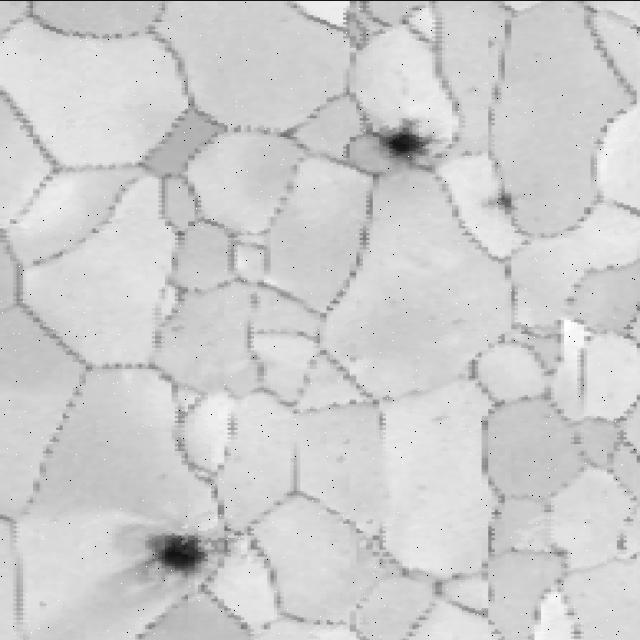good_void: (114, 508, 235, 597), (357, 116, 439, 170), (473, 189, 526, 216), (610, 535, 632, 550)
